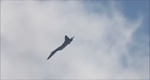maybay_muctieu: (47, 35, 74, 63)
